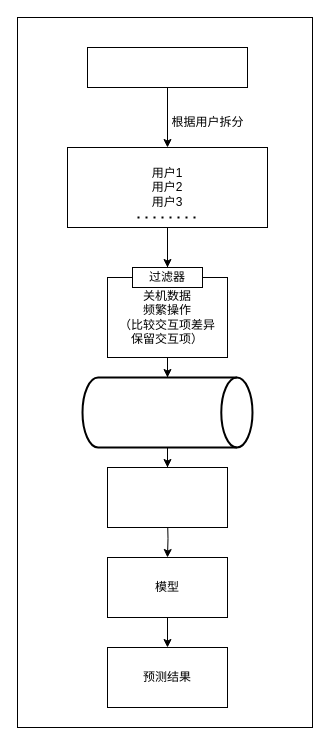
The diagram is 330 pixels wide and 745 high, and some of its shapes have lost their labels. The shapes that lost their labels are listed below. From the top down, each one's centre as x and y in pixels, then its label:
At [167,67]: "上报数据".
At [167,412]: "用户行为数据库".
At [167,497]: "特征构造".
